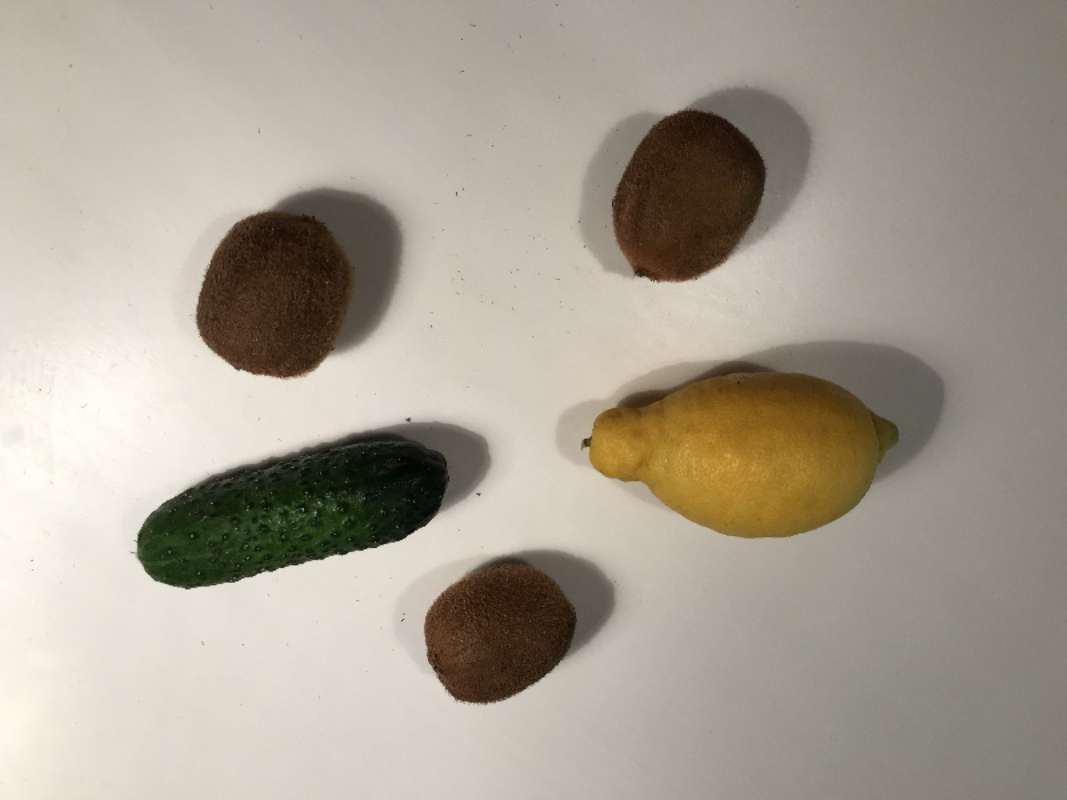kiwi: (612, 110, 765, 282), (196, 212, 352, 380), (425, 561, 576, 705)
lemon: (589, 372, 899, 537)
